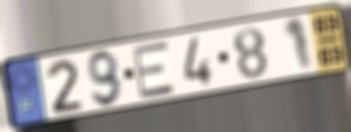1: (282, 14, 315, 74)
2: (44, 57, 86, 116)
4: (183, 34, 215, 89)
8: (230, 24, 270, 82)
9: (86, 49, 125, 109)
E: (131, 39, 179, 101)
